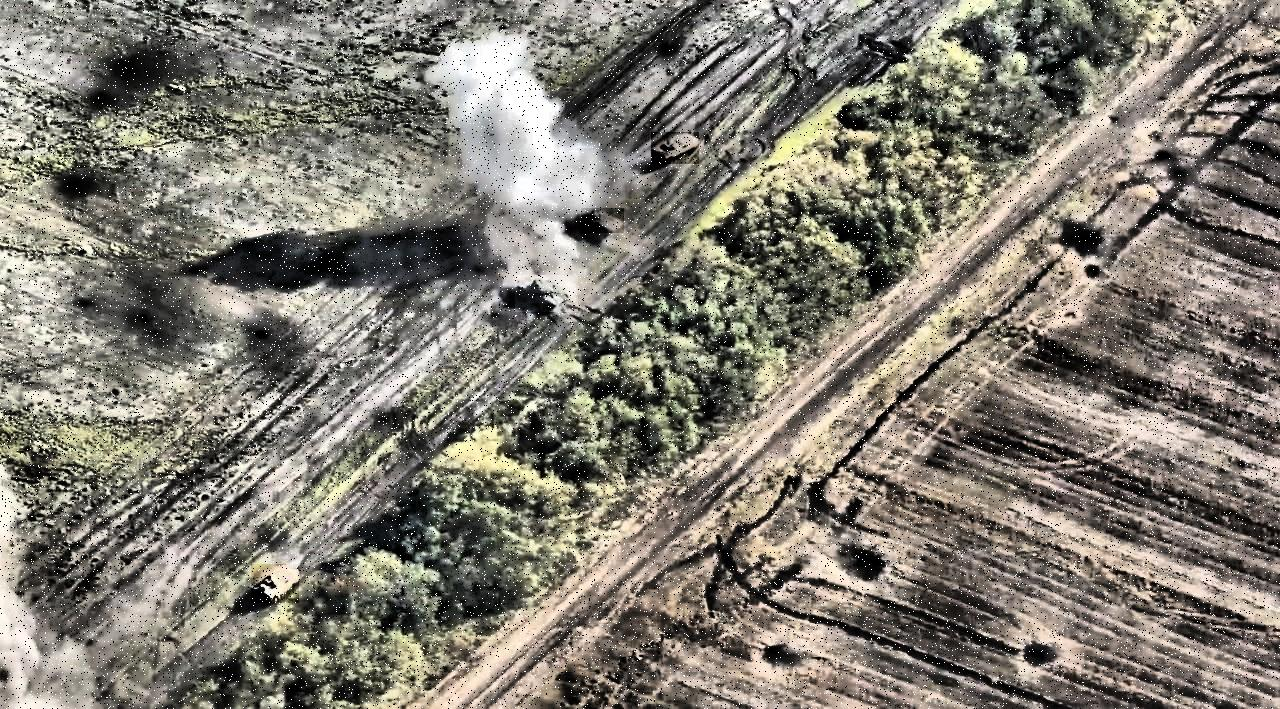military-vehicle: (516, 276, 579, 313), (251, 564, 299, 603), (651, 132, 699, 164), (581, 208, 624, 233)
